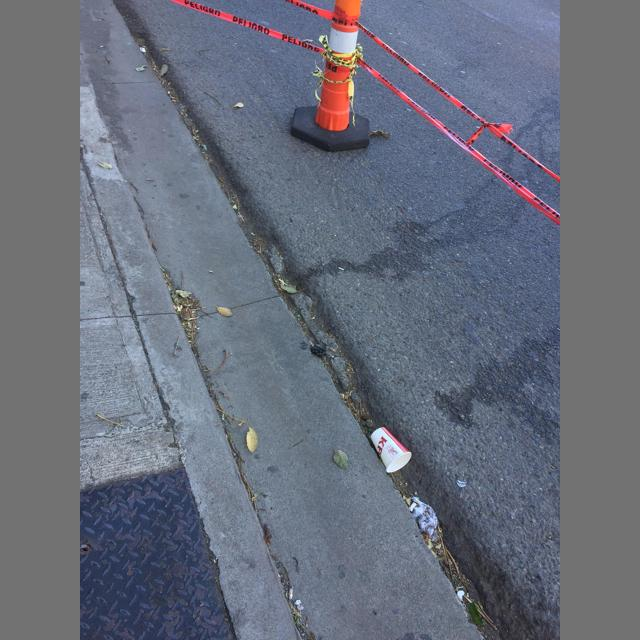litter: (370, 427, 412, 473), (411, 495, 439, 542), (409, 502, 417, 512), (456, 480, 466, 487)
